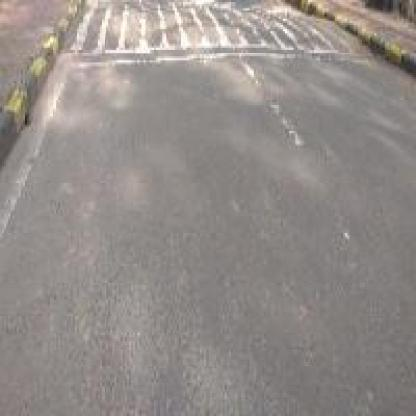Speed Bump: (65, 0, 382, 73)
